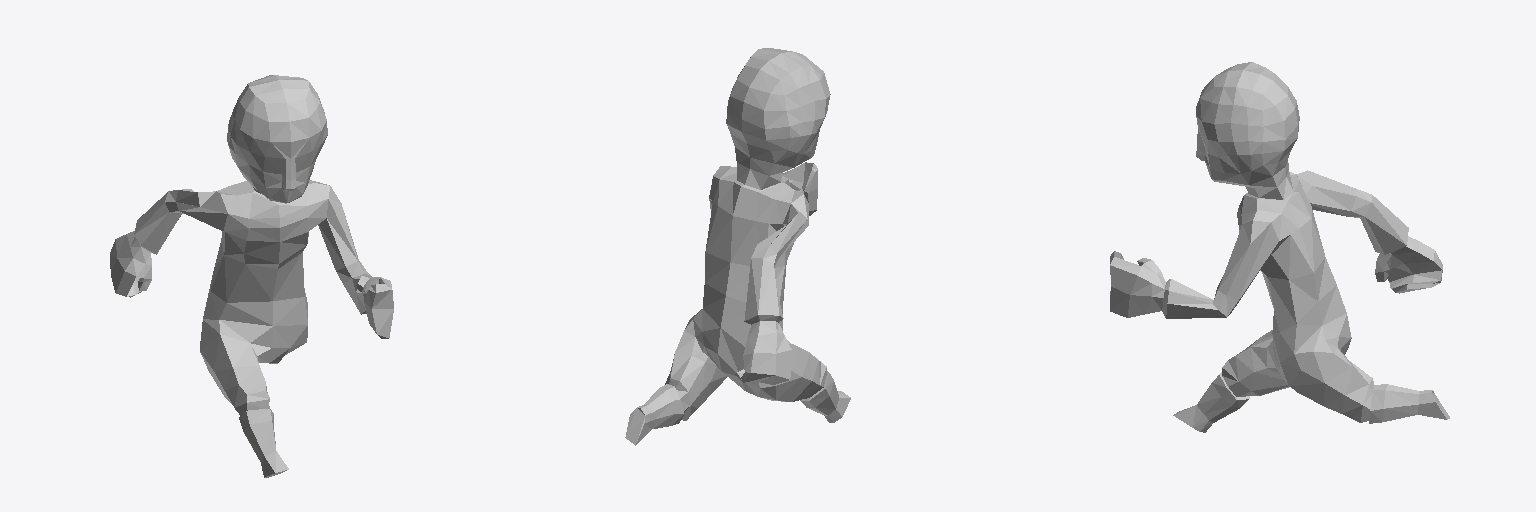
File: KnightCharacter1.obj
3 views of the same model, side by side, from view 1: azimuth 30°, elevation 25°; view 2: azimuth 150°, elevation 25°; view 3: azimuth 270°, elevation 25° (orthographic).
Visible parts, largest first — view 1: Knight; view 2: Knight; view 3: Knight.
Part boxes in pixels (x1,y1,x2,y2): Knight: (110, 75, 393, 477); Knight: (625, 48, 850, 445); Knight: (1110, 62, 1449, 432).
Size of the model in its own units: 2.26 by 4.99 by 4.09.